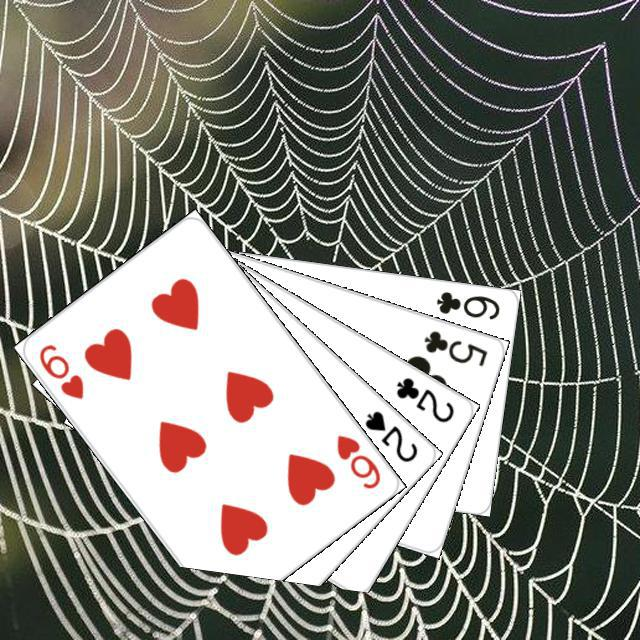2c: (391, 372, 456, 425)
2s: (359, 405, 420, 464)
5c: (419, 325, 489, 368)
6c: (431, 286, 502, 322)
6h: (33, 339, 86, 401), (331, 429, 383, 491)
